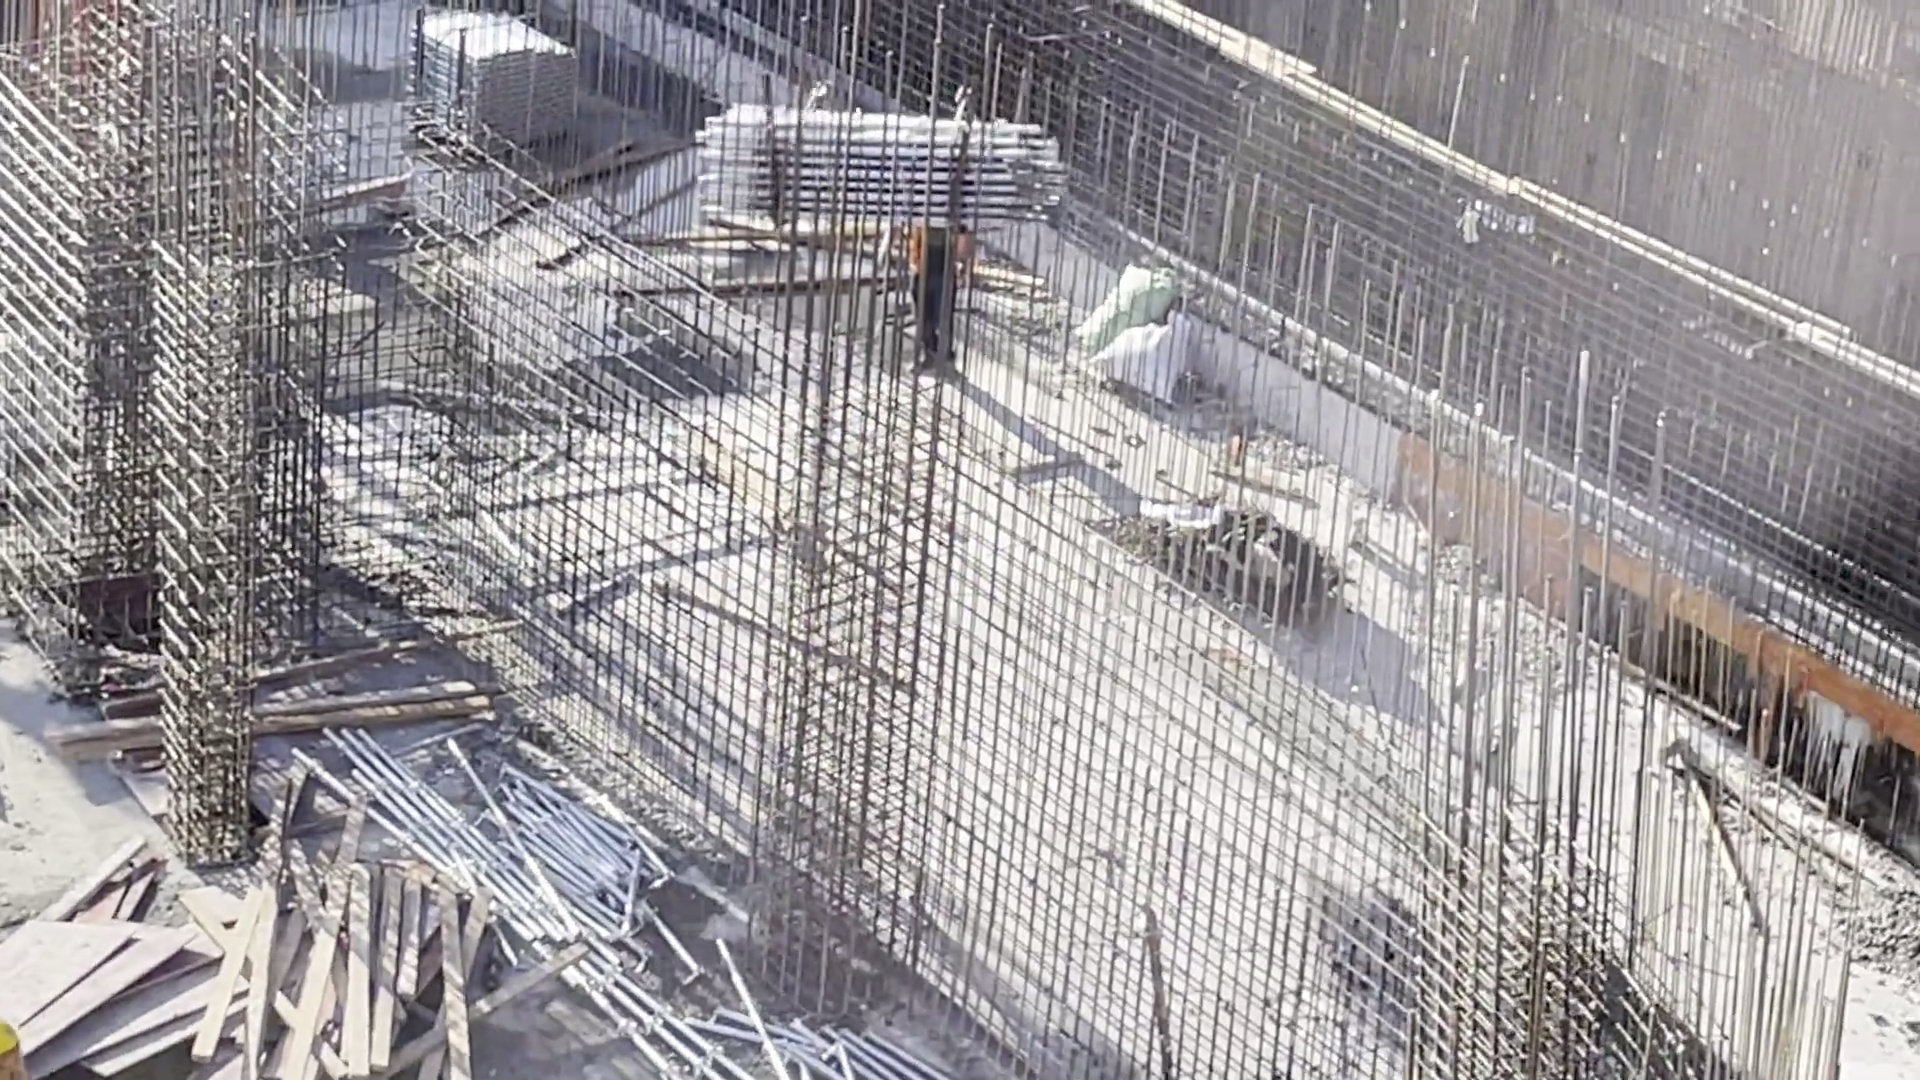board: (1, 921, 229, 1072)
person: (874, 178, 980, 375)
scaffold: (713, 102, 1109, 207), (476, 779, 668, 960), (385, 1, 603, 161), (761, 1017, 952, 1080)
vest: (905, 215, 981, 299)
wood: (218, 856, 475, 1074)
